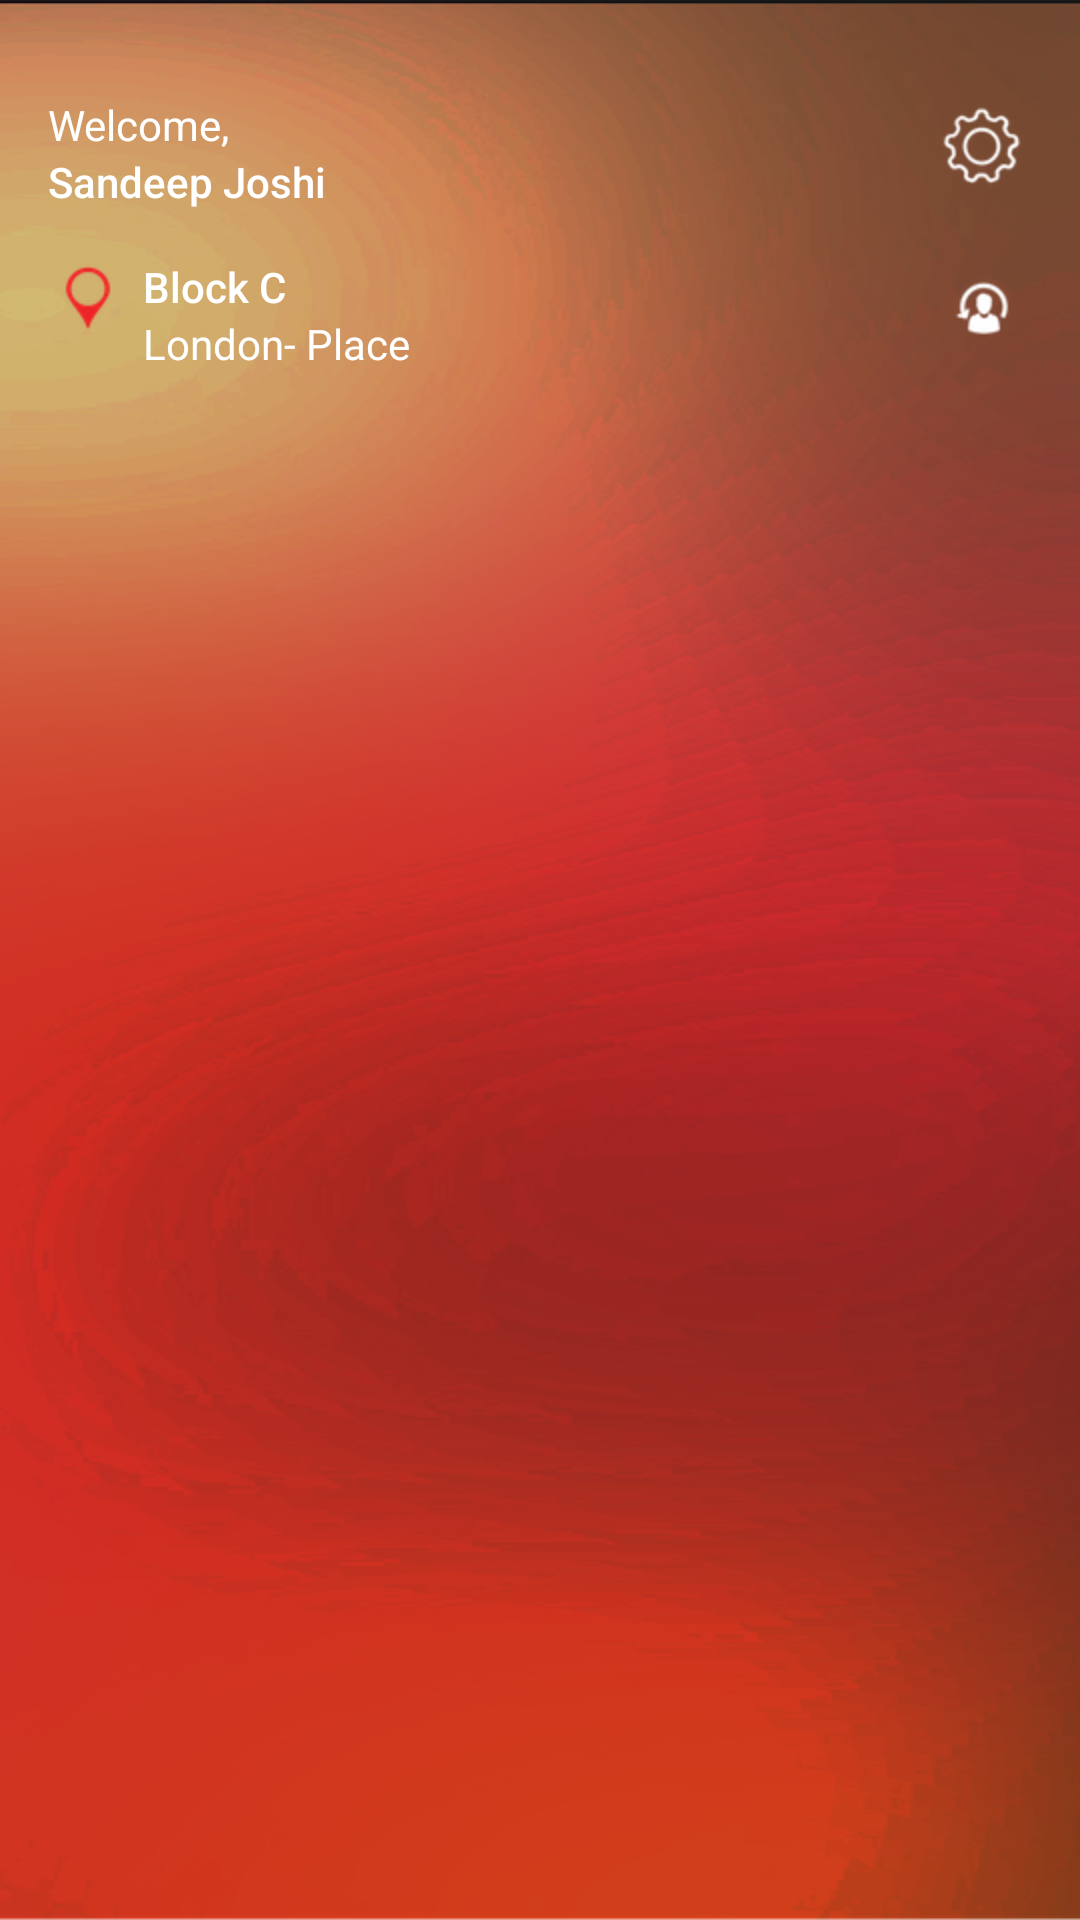

Locate icon controls on the screen. Image size 1080×1920, boxes as (x1, y1, x2, y2).
map pin: (65, 267, 111, 329)
setting: (943, 108, 1020, 184)
